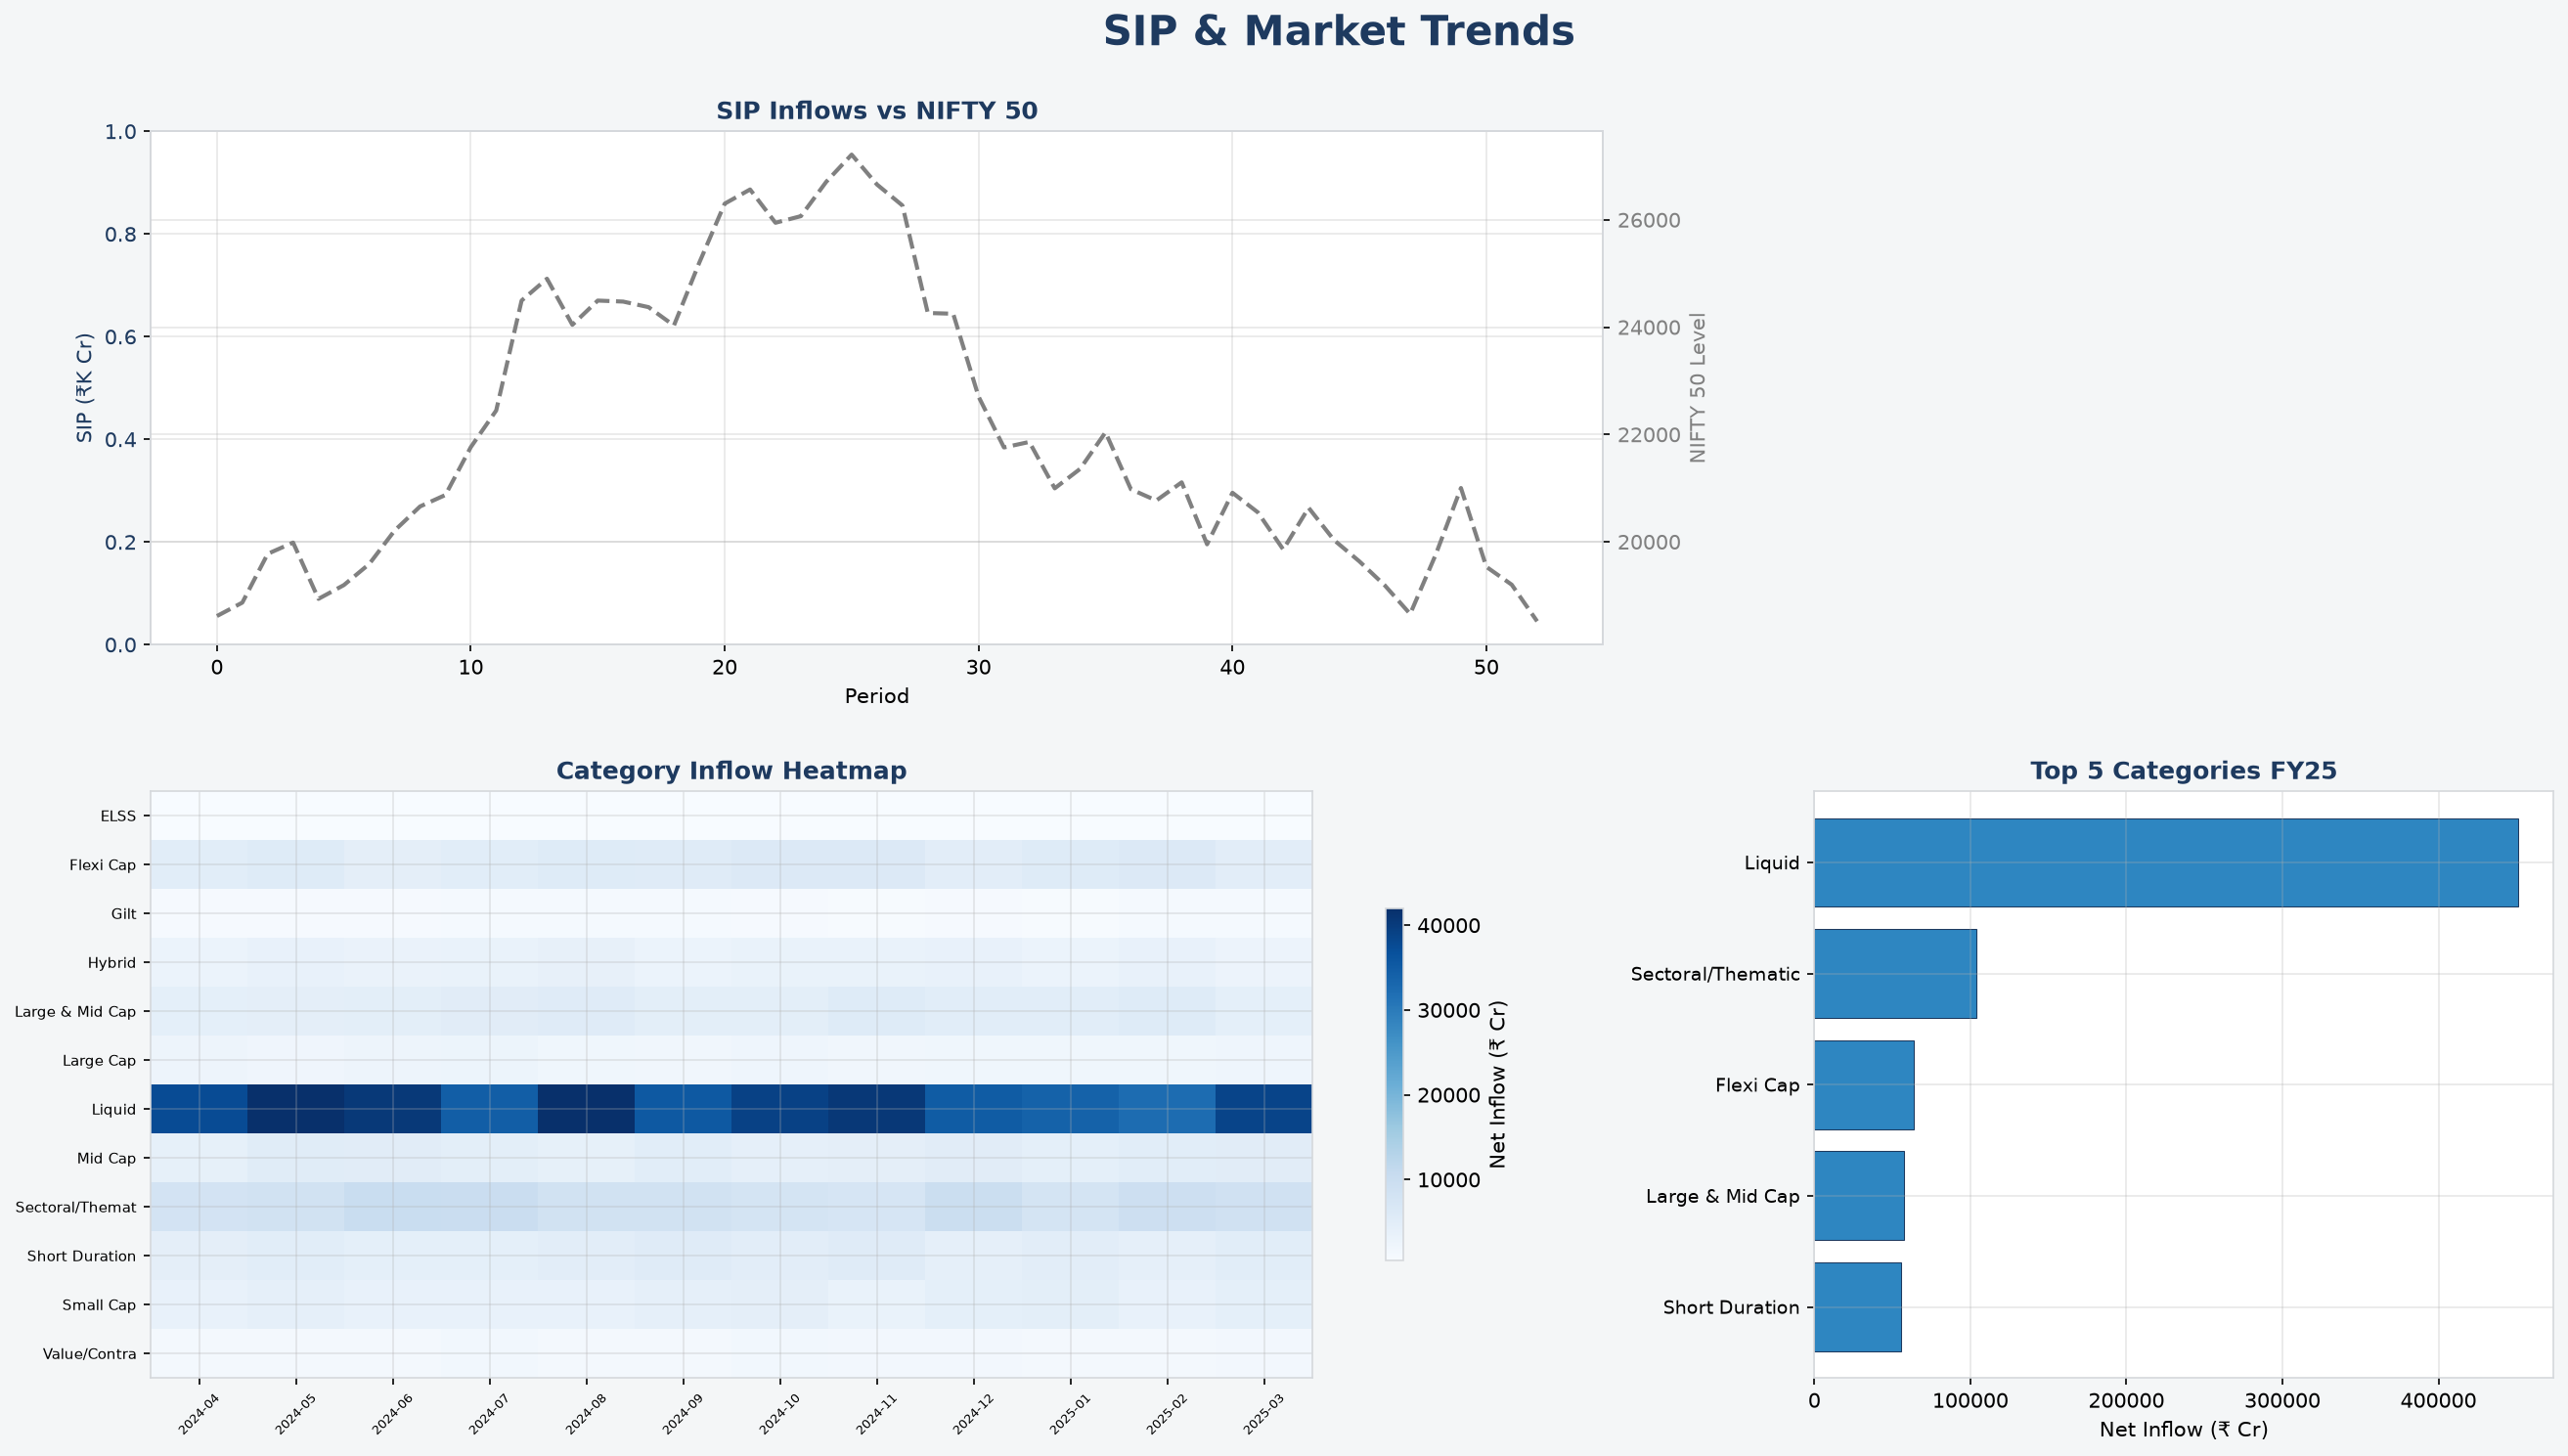

The dashboard page shown, as its layout file describes it:
{"tool":"powerbi","page":{"name":"SIP & Market Trends ","canvas":[1280,720],"ordinal":3},"visuals":[{"type":"lineStackedColumnComboChart","fields":{"Category":["agg_sip_monthly.month"],"Y":["Sum(agg_sip_monthly.sip_inflow_crore)"],"Y2":["Sum(benchmark_indices.NIFTY50)"]},"box":[9.6,0,1270.7,370.5],"z":0},{"type":"pivotTable","fields":{"Rows":["agg_category_inflows.category"],"Columns":["agg_category_inflows.month"],"Values":["Sum(agg_category_inflows.net_inflow_crore)"]},"box":[656,510,624,201],"z":1000},{"type":"clusteredColumnChart","fields":{"Category":["agg_category_inflows.category"],"Y":["Sum(agg_category_inflows.net_inflow_crore)"]},"box":[0,360,645,324],"z":2000},{"type":"tableEx","fields":{"Values":["agg_category_inflows.category"]},"box":[1129,370,151,280],"z":3000},{"type":"tableEx","fields":{"Values":["agg_category_inflows.month"]},"box":[927,370,151,140],"z":4000}]}

Visuals, with their boxes in screenshot pixels (x1, y1, x2, y2), scaled from the page's 1280x720 canvas onto the 2568x1456 screenshot:
lineStackedColumnComboChart - agg_sip_monthly.month x Sum(agg_sip_monthly.sip_inflow_crore): 20/0/2567/749
pivotTable - agg_category_inflows.category x agg_category_inflows.month: 1316/1032/2567/1437
clusteredColumnChart - agg_category_inflows.category x Sum(agg_category_inflows.net_inflow_crore): 0/728/1294/1384
tableEx - agg_category_inflows.category: 2265/748/2567/1314
tableEx - agg_category_inflows.month: 1860/748/2163/1032
